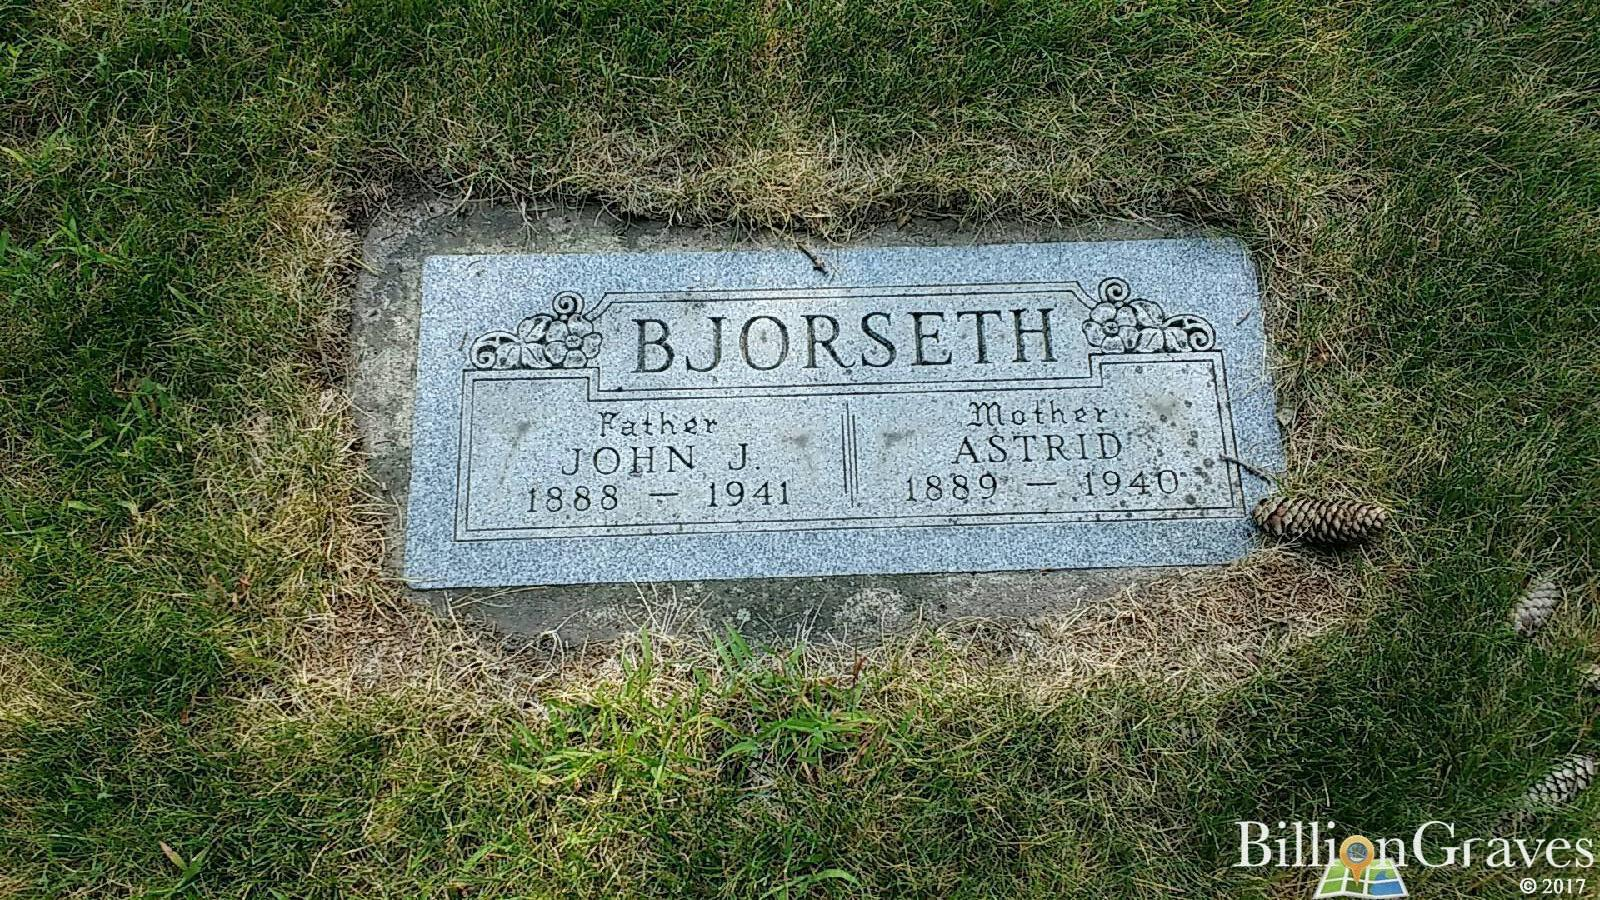flat: (403, 229, 1303, 591)
